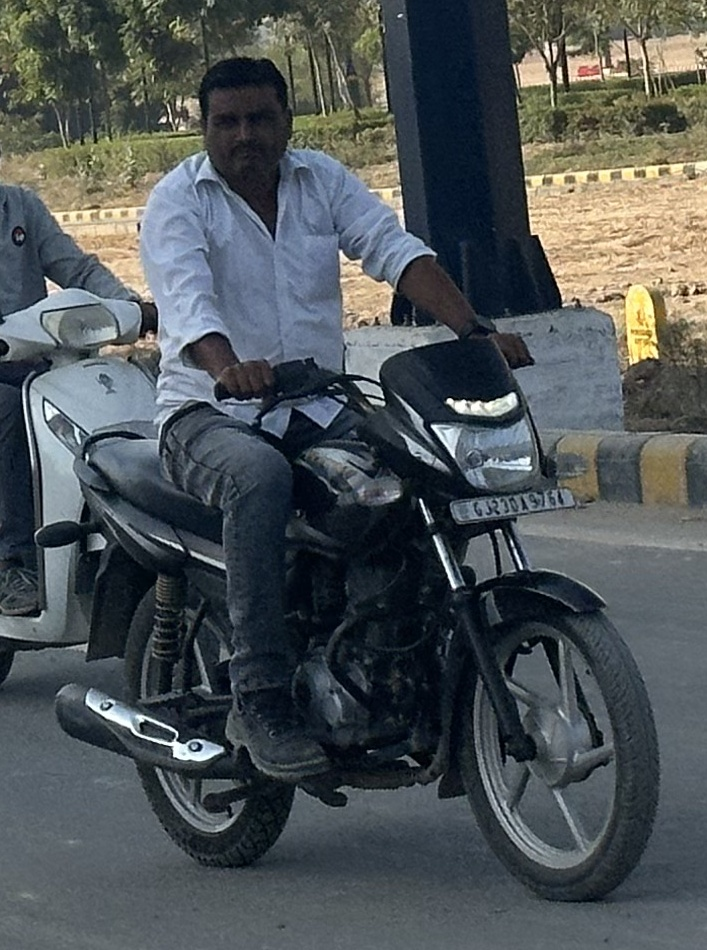BikeWithRider: (18, 30, 687, 899)
NoHelmet: (192, 56, 306, 177)
